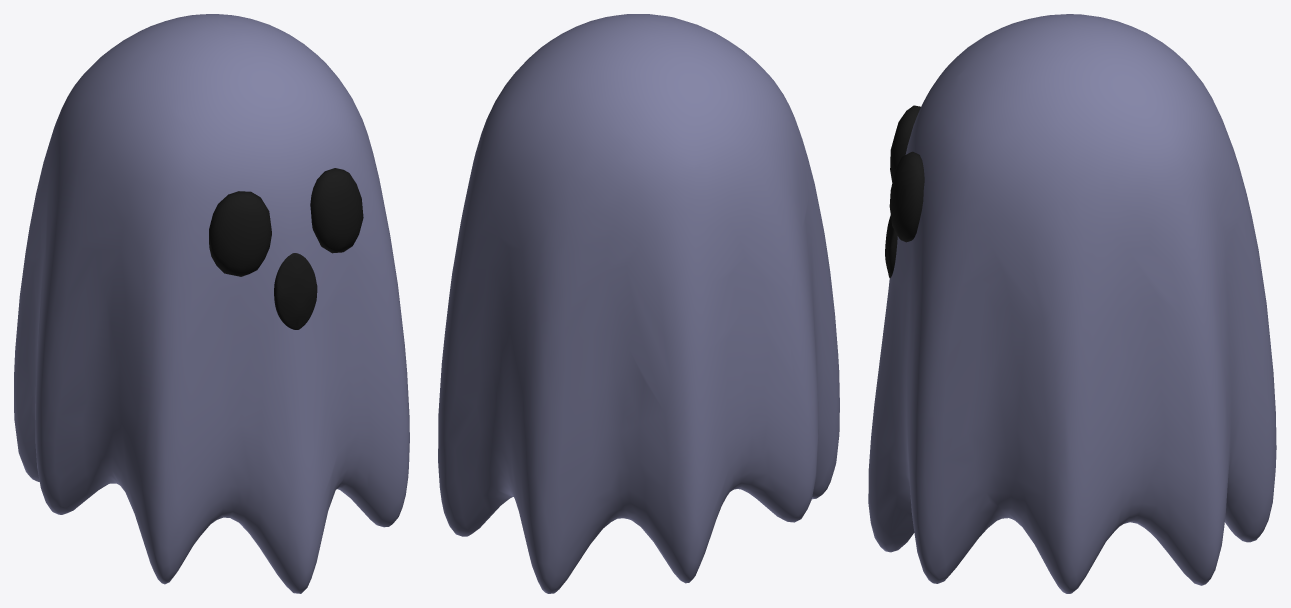
Rendered from mainCharacter.fbx.
3 views of the same model, side by side, from view 1: azimuth 30°, elevation 25°; view 2: azimuth 150°, elevation 25°; view 3: azimuth 270°, elevation 25° (orthographic). The views are drawn at different scales.
Parts seen in each view (by area): view 1: mainCharacter; view 2: mainCharacter; view 3: mainCharacter.
Part boxes in pixels (box(x1,y1,x2,y2)): mainCharacter: box(14, 14, 409, 593); mainCharacter: box(438, 14, 839, 593); mainCharacter: box(868, 14, 1276, 593).
Bounding box in the file's own units: 107 × 148 × 105.
